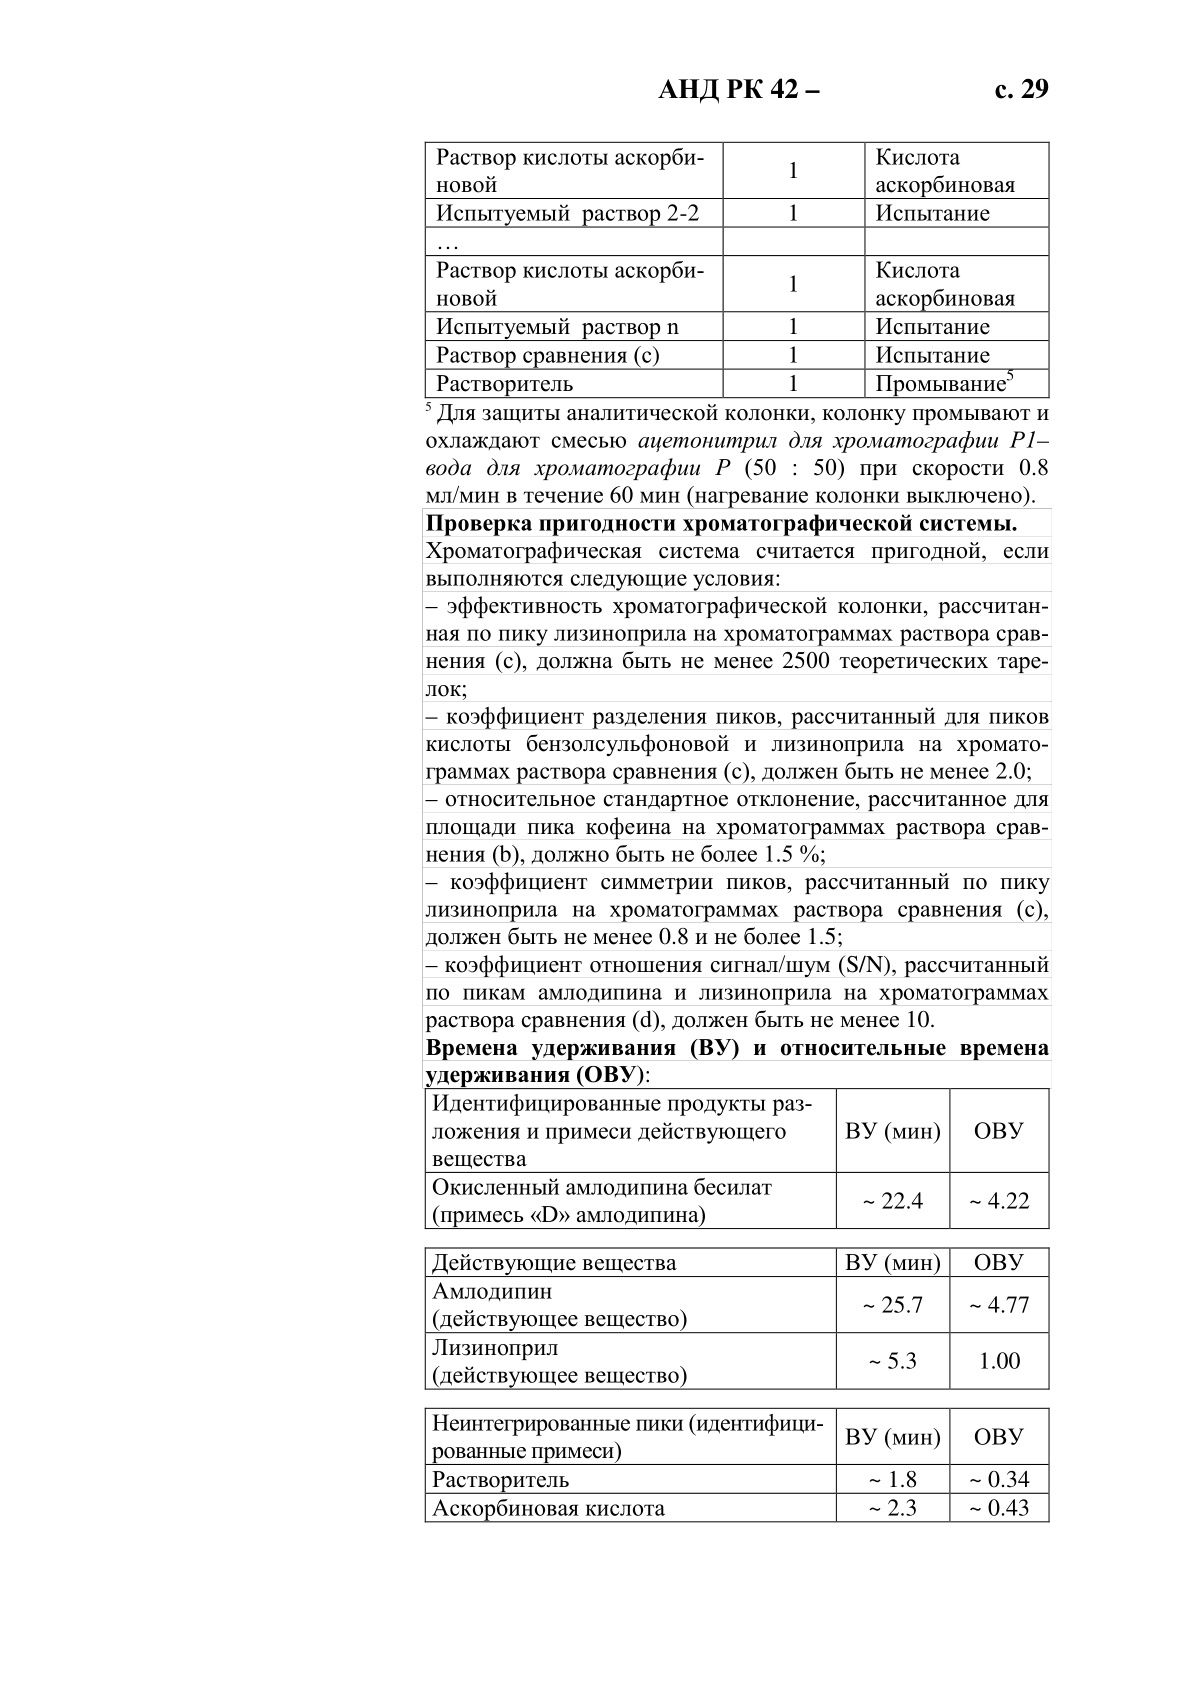full_lined: (424, 140, 1051, 399), (424, 1247, 1051, 1392), (424, 1087, 1051, 1230), (424, 1407, 1051, 1524)
